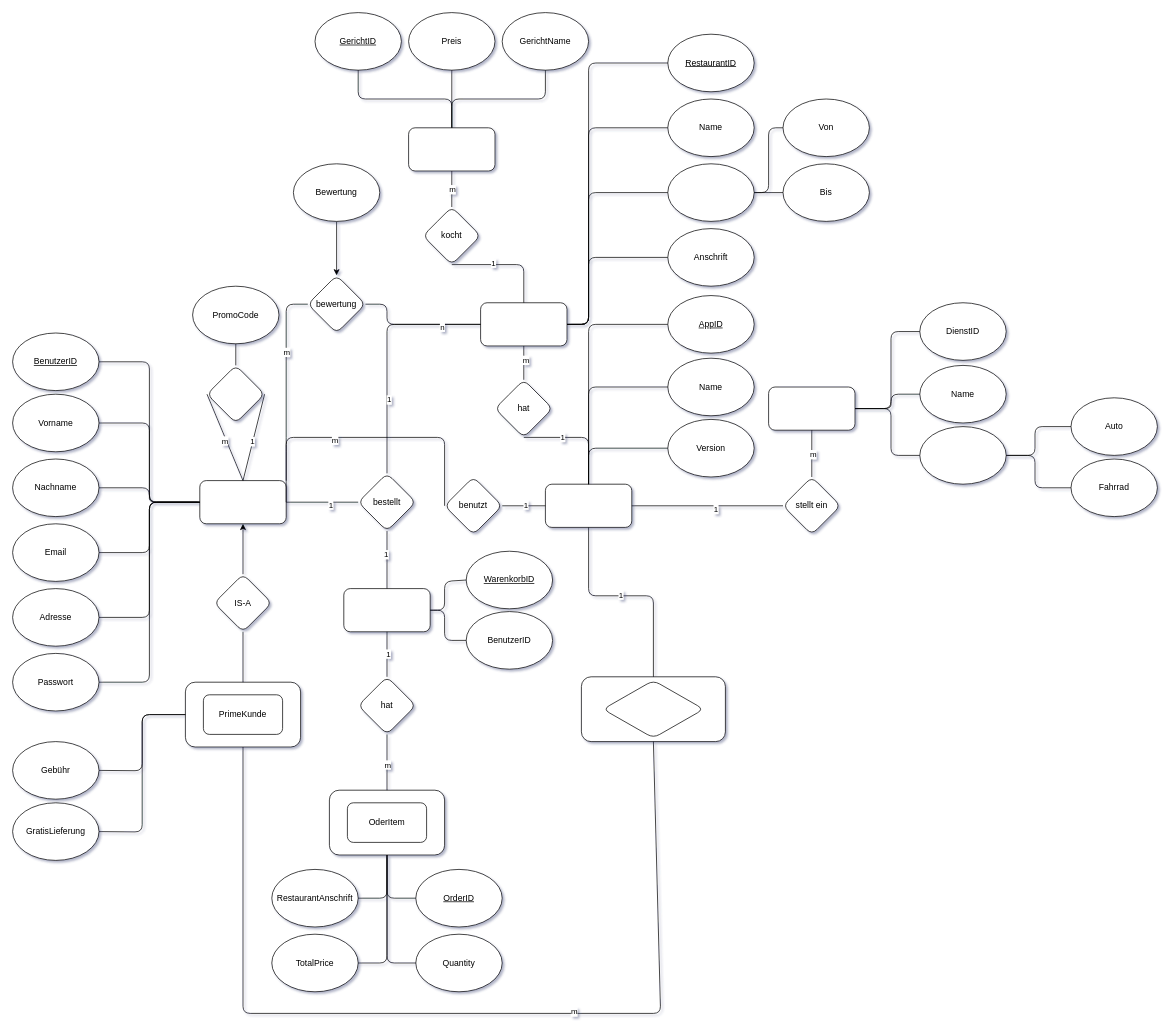
This 1174x1033 diagram has some shape labels left out. Each missing label, with the centre of its shape:
App: pixel 588 505
Benutzer: pixel 242 502
Fahrzeug: pixel 962 455
Gericht: pixel 451 149
laded ein: pixel 235 394
Lieferant: pixel 811 408
Mitglied: pixel 653 709
Restaurant: pixel 523 324
Warenkorb: pixel 386 610
Öffnungszeiten: pixel 710 192
